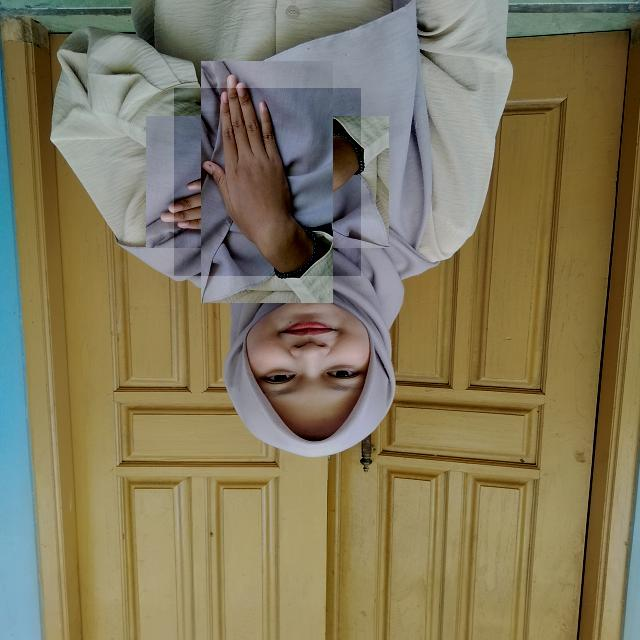tolong: (174, 88, 361, 276)
